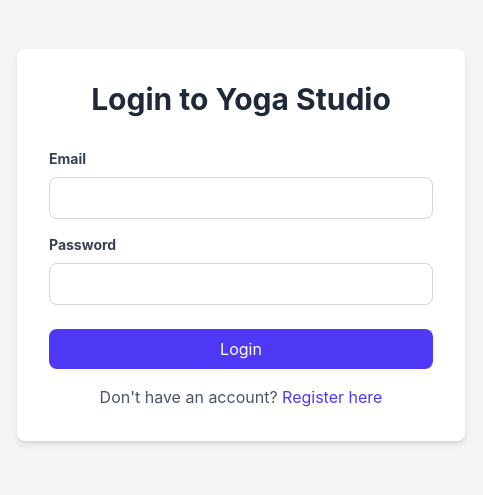
Test: Login › displays error message on login failure
Type "user@test.com" into the field labelled "Email" at (241, 198), box [49,177,433,219]
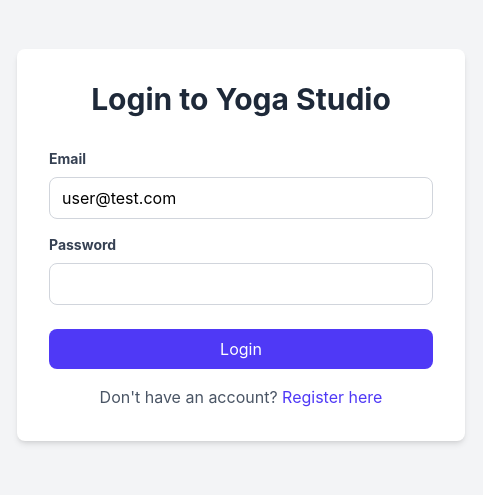
Type "wrongpassword" into the password field labelled "Password" at (241, 284), box [49,263,433,305]
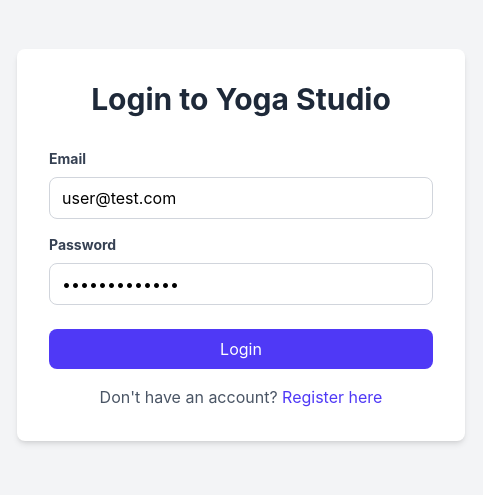
Submit the form from the button "Login", box [49,329,433,369]
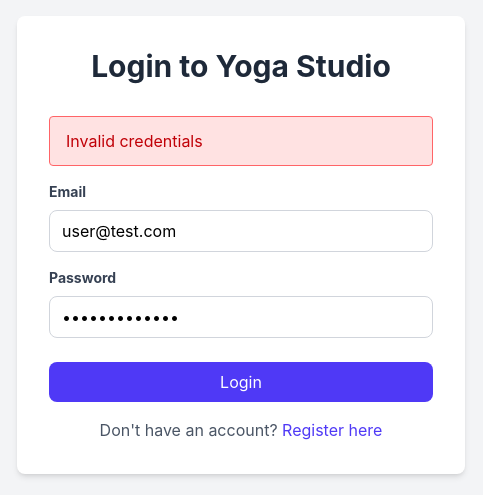
Now the text "Invalid credentials" is shown, box [49,116,433,166]
